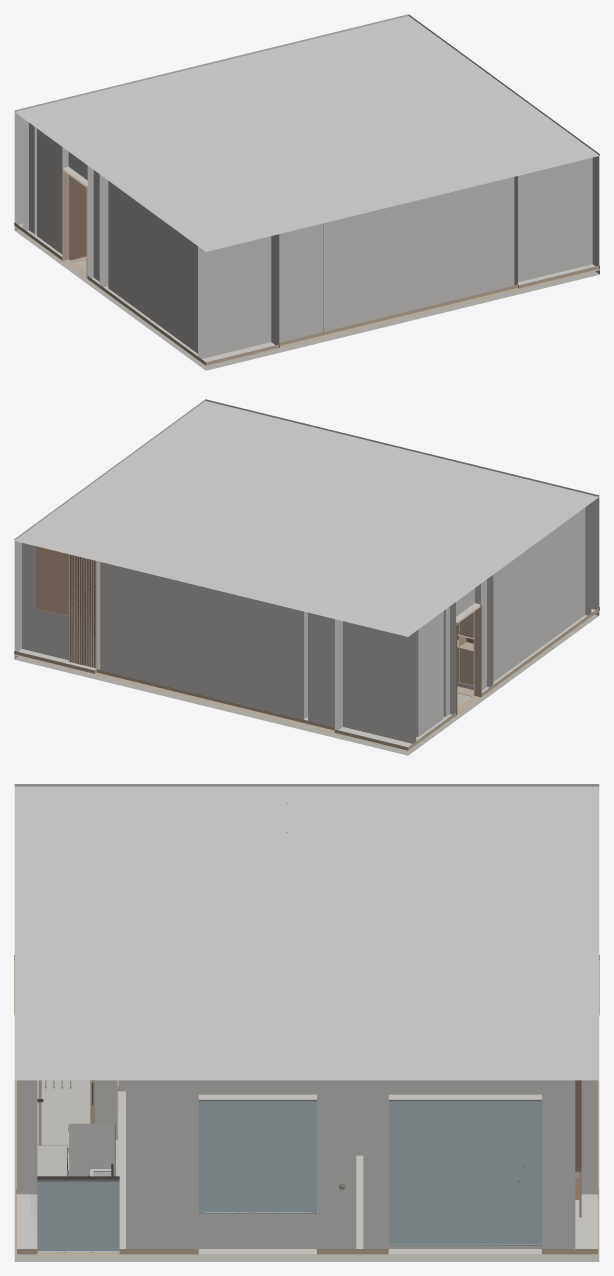
File: can_ho_3d.glb
The picture shows the model from 3 angles, top to bottom: view 1: azimuth 30°, elevation 25°; view 2: azimuth 150°, elevation 25°; view 3: azimuth 270°, elevation 25°; orthographic projection. The views are drawn at different scales.
Parts seen in each view (by area): view 1: tran__Trần thạch cao__6, tuong__Tường 4__10, tuong__Tường 7__13, cot__Cột góc dưới-trái__20, cot__Cột góc dưới-phải__21, tuong__Tường 8__14, san__Sàn kết cấu__0, tuong__Len chân tường 2__23, tuong__Tường cạnh cửa chính__16, cua__Cửa chính · cánh__37, san__Sàn gỗ sồi__1, cot__Cột góc trên-trái__17 (+2 smaller); view 2: tran__Trần thạch cao__6, tuong__Tường 3__9, tuong__Tường 7__13, cot__Cột góc trên-trái__17, tuong__Tường 8__14, cot__Cột góc trên-phải__18, san__Sàn kết cấu__0, noithat__Vách lam tivi · tấm nền__157, tuong__Len chân tường 1__22, tuong__Tường cạnh cửa chính__16, san__Sàn gỗ sồi__1, cot__Cột góc dưới-trái__20 (+4 smaller); view 3: tran__Trần thạch cao__6, kinh__Kính phòng khách__65, tuong__Tường 1__7, kinh__Kính PN2__76, tuong__Tường 2__8, kinh__Lan can kính lô gia__84, cot__Trụ biên phải__19, tuong__Bậu cửa PN2__74, san__Sàn kết cấu__0, cot__Cột góc dưới-phải__21, cot__Cột góc trên-phải__18, tuong__Tường trên cửa phòng khách__64 (+9 smaller).
Part boxes in pixels (x1,y1,x2,y2): tran__Trần thạch cao__6: (14,14,599,251); tuong__Tường 4__10: (279,176,517,342); tuong__Tường 7__13: (99,174,197,356); cot__Cột góc dưới-trái__20: (198,234,279,362); cot__Cột góc dưới-phải__21: (518,156,599,284); tuong__Tường 8__14: (22,118,62,256); san__Sàn kết cấu__0: (14,226,599,370); tuong__Len chân tường 2__23: (87,265,599,365); tuong__Tường cạnh cửa chính__16: (87,166,99,284); cua__Cửa chính · cánh__37: (69,176,86,260); san__Sàn gỗ sồi__1: (16,227,599,365); cot__Cột góc trên-trái__17: (14,112,22,227); tran__Trần thạch cao__6: (14,399,599,636); tuong__Tường 3__9: (96,561,334,727); tuong__Tường 7__13: (493,503,591,684); cot__Cột góc trên-trái__17: (335,619,416,747); tuong__Tường 8__14: (416,602,455,740); cot__Cột góc trên-phải__18: (14,541,96,670); san__Sàn kết cấu__0: (14,611,599,755); noithat__Vách lam tivi · tấm nền__157: (68,554,95,666); tuong__Len chân tường 1__22: (14,651,456,750); tuong__Tường cạnh cửa chính__16: (481,575,493,692); san__Sàn gỗ sồi__1: (14,612,597,750); cot__Cột góc dưới-trái__20: (591,497,599,612); tran__Trần thạch cao__6: (14,784,599,1080); kinh__Kính phòng khách__65: (388,1099,541,1245); tuong__Tường 1__7: (118,1080,198,1248); kinh__Kính PN2__76: (198,1099,316,1213); tuong__Tường 2__8: (317,1080,388,1248); kinh__Lan can kính lô gia__84: (37,1181,119,1251); cot__Trụ biên phải__19: (542,1080,575,1248); tuong__Bậu cửa PN2__74: (198,1214,316,1254); san__Sàn kết cấu__0: (14,1255,599,1261); cot__Cột góc dưới-phải__21: (17,1080,37,1248); cot__Cột góc trên-phải__18: (575,1080,597,1248); tuong__Tường trên cửa phòng khách__64: (388,1080,541,1099).
Bounding box in the file's own units: 9.81 × 2.86 × 8.25.
